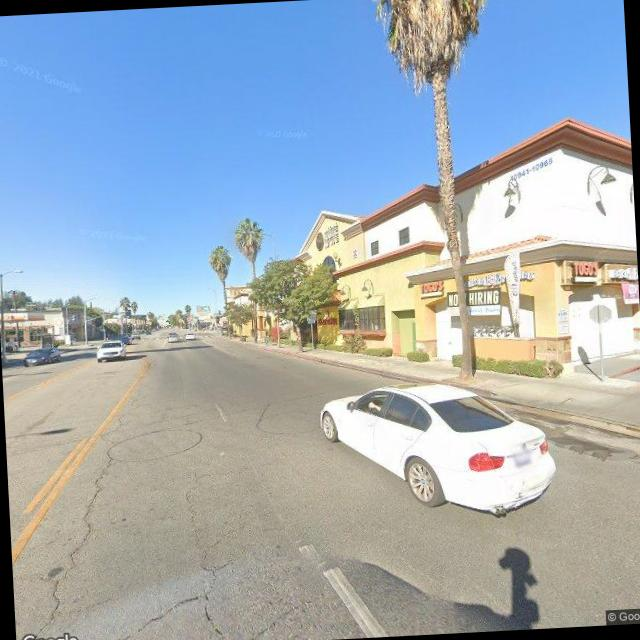crack: (11, 405, 279, 640)
pothole: (21, 427, 130, 638), (252, 400, 272, 430)
